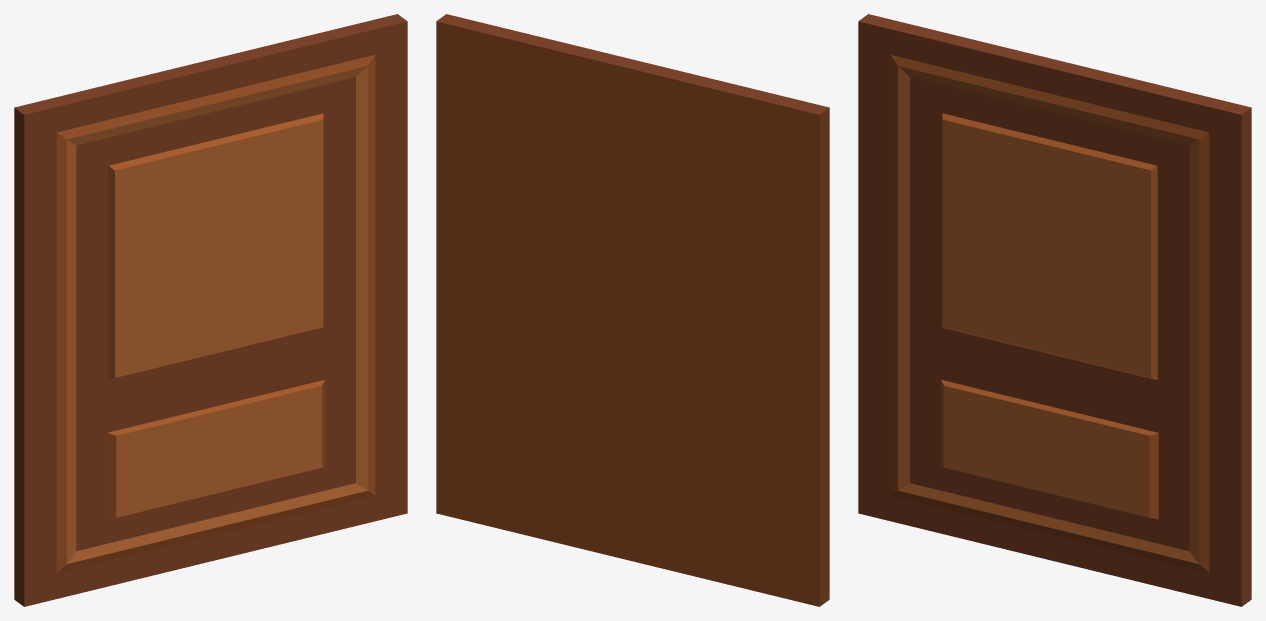
File: doors .fbx
3 renders of one model, left to right at view 1: azimuth 30°, elevation 25°; view 2: azimuth 150°, elevation 25°; view 3: azimuth 330°, elevation 25°, orthographic.
Visible parts, largest first — view 1: Cube.004; view 2: Cube.004; view 3: Cube.004.
Boxes of the visible parts, box(x1,y1,x2,y2) form: Cube.004: box(14, 14, 407, 606); Cube.004: box(436, 14, 829, 606); Cube.004: box(858, 14, 1251, 606).
Bounding box in the file's own units: 1516 × 1859 × 89.78.
1 material, 1 textured.
